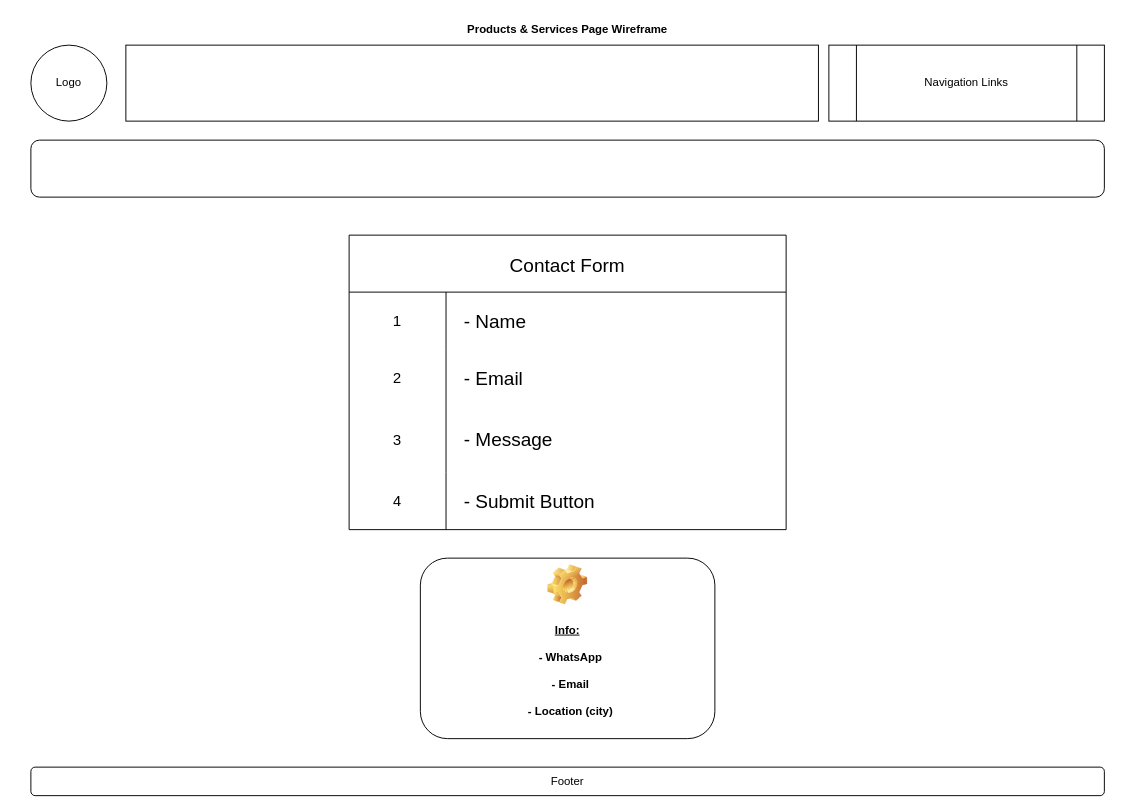
Some shapes in this 1134 by 812 pixel diagram are drawn without their labels. The shapes that lost their labels are listed below. From the top down, each one's centre as x and y in pixels, then its label:
point 471,82: Site Name
point 567,168: Page Title: Contact 3D XD
